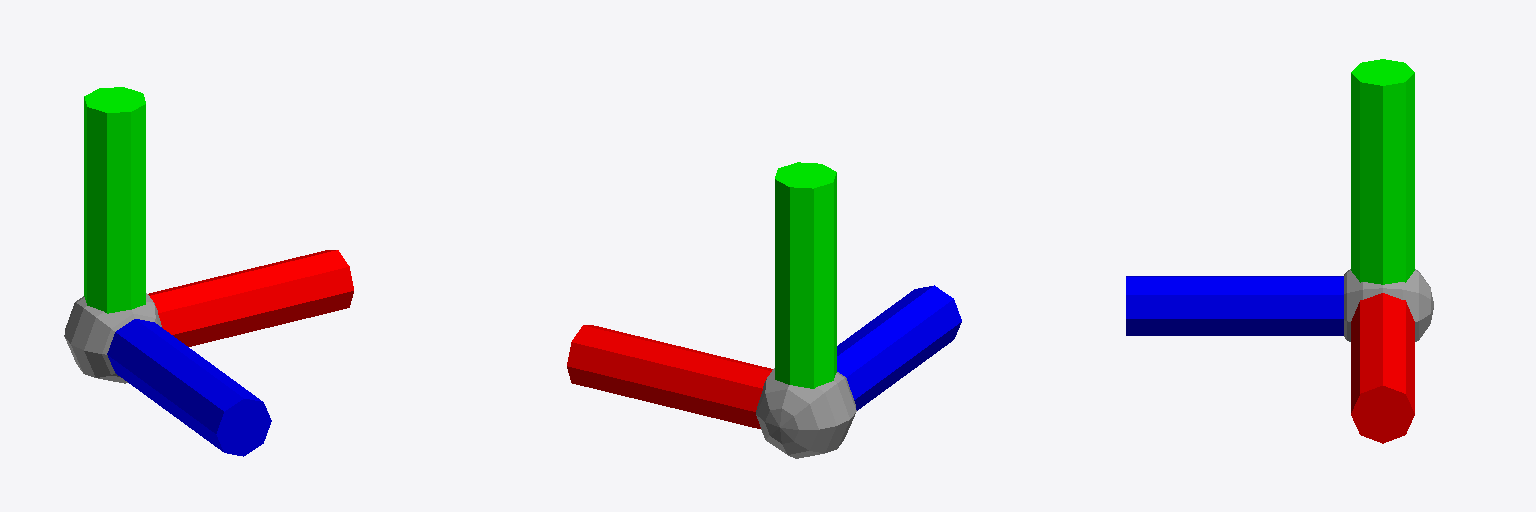
File: axis.obj
3 views of the same model, side by side, from view 1: azimuth 30°, elevation 25°; view 2: azimuth 150°, elevation 25°; view 3: azimuth 270°, elevation 25° (orthographic).
Parts seen in each view (by area): view 1: Cylinder_y_Cylinder.004, Cylinder_x_Cylinder.003, Cylinder_z_Cylinder.005, Sphere; view 2: Cylinder_y_Cylinder.004, Cylinder_x_Cylinder.003, Cylinder_z_Cylinder.005, Sphere; view 3: Cylinder_y_Cylinder.004, Cylinder_z_Cylinder.005, Cylinder_x_Cylinder.003, Sphere.
Boxes of the visible parts, x1,y1,x2,y2 form: Cylinder_y_Cylinder.004: [84, 87, 145, 313]; Cylinder_x_Cylinder.003: [148, 250, 353, 346]; Cylinder_z_Cylinder.005: [107, 319, 271, 456]; Sphere: [64, 293, 161, 383]; Cylinder_y_Cylinder.004: [775, 162, 836, 388]; Cylinder_x_Cylinder.003: [567, 325, 772, 428]; Cylinder_z_Cylinder.005: [837, 285, 961, 410]; Sphere: [756, 368, 856, 458]; Cylinder_y_Cylinder.004: [1351, 59, 1414, 284]; Cylinder_z_Cylinder.005: [1126, 276, 1343, 335]; Cylinder_x_Cylinder.003: [1351, 293, 1414, 443]; Sphere: [1344, 269, 1433, 341].
Bounding box in the file's own units: 1.2 × 1.2 × 1.2.